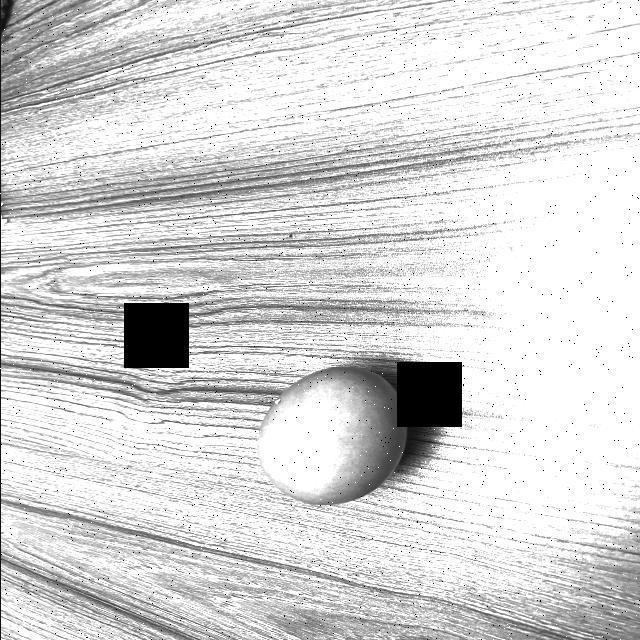egg: (244, 356, 411, 513)
